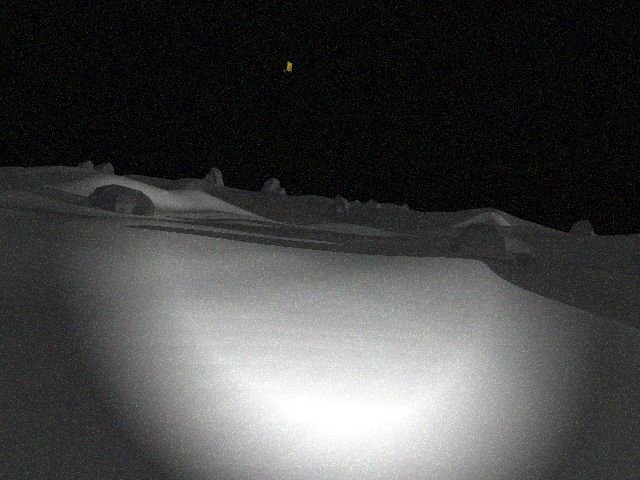cubesat: (279, 60, 297, 75)
